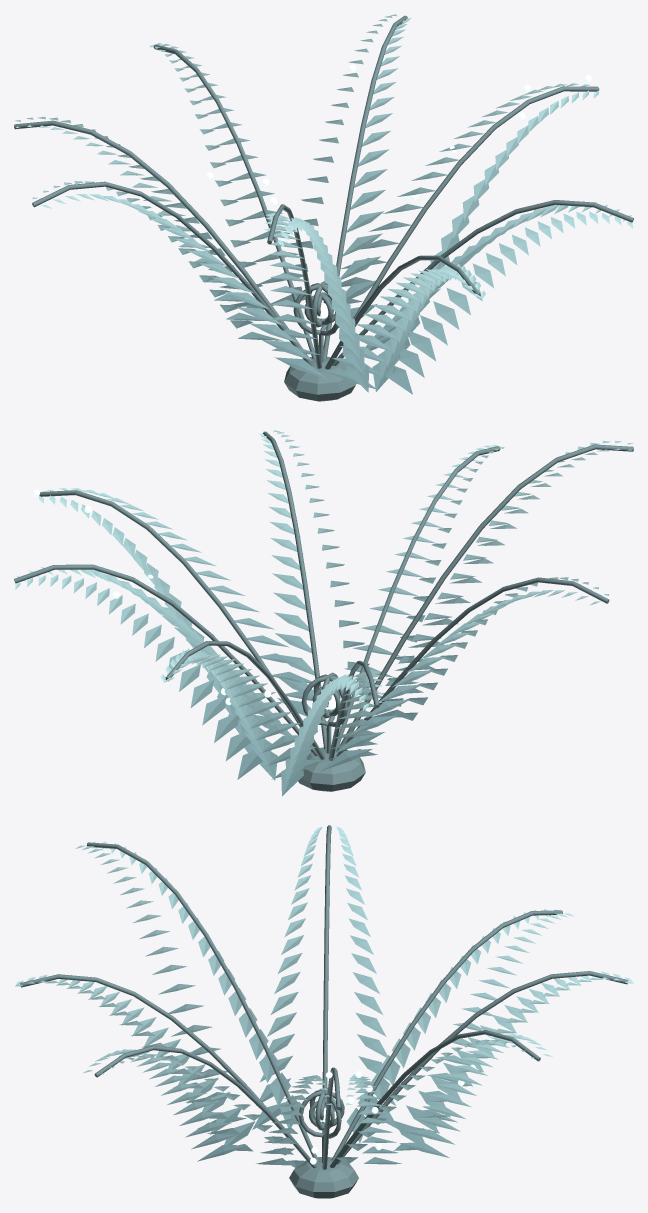
Rendered from mistfern.glb.
The picture shows the model from 3 angles, top to bottom: view 1: azimuth 30°, elevation 25°; view 2: azimuth 150°, elevation 25°; view 3: azimuth 270°, elevation 25°; orthographic projection. The views are drawn at different scales.
Visible parts, largest first — view 1: MF_frond3_leaflets, MF_frond5_leaflets, MF_frond4_leaflets, MF_frond1_leaflets, MF_frond2_leaflets, MF_frond6_leaflets, MF_frond0_leaflets, MF_frond7_leaflets, MF_rachis7, Sphere.008, MF_rachis2, MF_rachis6 (+5 smaller); view 2: MF_frond1_leaflets, MF_frond0_leaflets, MF_frond2_leaflets, MF_frond3_leaflets, MF_frond6_leaflets, MF_frond7_leaflets, MF_frond5_leaflets, MF_frond4_leaflets, MF_rachis5, Sphere.008, MF_rachis2, MF_rachis1 (+6 smaller); view 3: MF_frond6_leaflets, MF_frond5_leaflets, MF_frond7_leaflets, MF_frond4_leaflets, MF_frond0_leaflets, MF_frond3_leaflets, MF_frond1_leaflets, MF_frond2_leaflets, Sphere.008, MF_rachis5, MF_rachis7, MF_rachis0 (+6 smaller).
Boxes of the visible parts, x1,y1,x2,y2 form: MF_frond3_leaflets: (365, 201, 632, 394); MF_frond5_leaflets: (263, 213, 368, 392); MF_frond4_leaflets: (323, 263, 485, 391); MF_frond1_leaflets: (288, 14, 411, 328); MF_frond2_leaflets: (341, 83, 598, 349); MF_frond6_leaflets: (32, 181, 327, 379); MF_frond0_leaflets: (149, 43, 311, 309); MF_frond7_leaflets: (15, 116, 282, 340); MF_rachis7: (14, 120, 311, 360); Sphere.008: (284, 356, 355, 401); MF_rachis2: (329, 86, 599, 359); MF_rachis6: (32, 181, 313, 366); MF_frond1_leaflets: (15, 564, 291, 779); MF_frond0_leaflets: (160, 648, 324, 780); MF_frond2_leaflets: (39, 488, 312, 752); MF_frond3_leaflets: (259, 430, 369, 716); MF_frond6_leaflets: (321, 577, 608, 770); MF_frond7_leaflets: (281, 669, 383, 796); MF_frond5_leaflets: (372, 440, 632, 717); MF_frond4_leaflets: (343, 444, 504, 706); MF_rachis5: (336, 444, 633, 752); Sphere.008: (298, 747, 365, 791); MF_rachis2: (39, 490, 300, 727); MF_rachis1: (14, 564, 317, 755); MF_frond6_leaflets: (252, 826, 398, 1129); MF_frond5_leaflets: (75, 841, 299, 1129); MF_frond7_leaflets: (346, 908, 574, 1142); MF_frond4_leaflets: (15, 974, 255, 1151); MF_frond0_leaflets: (394, 971, 633, 1150); MF_frond3_leaflets: (83, 1049, 305, 1167); MF_frond1_leaflets: (336, 1034, 552, 1164); MF_frond2_leaflets: (256, 1074, 401, 1165); Sphere.008: (289, 1157, 358, 1198); MF_rachis5: (86, 842, 318, 1161); MF_rachis7: (331, 910, 562, 1160); MF_rachis0: (337, 971, 628, 1164).
Bounding box in the file's own units: 1.04 × 0.5256 × 1.06.
